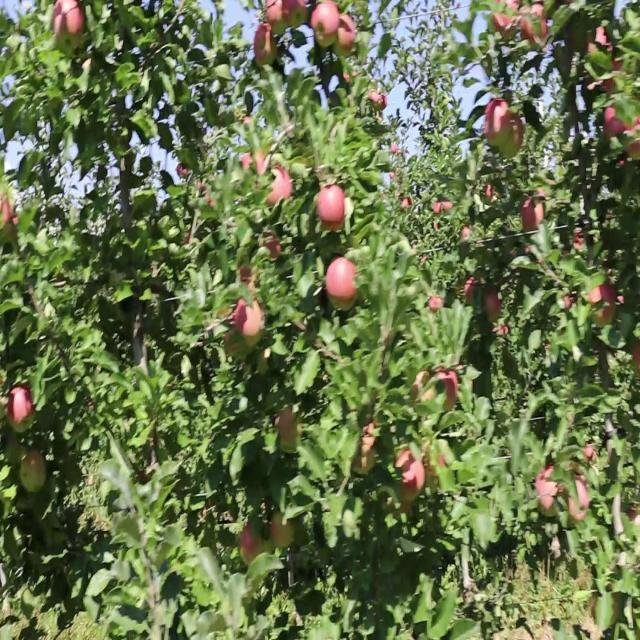apple: (584, 28, 612, 85), (328, 255, 357, 309), (8, 383, 37, 432), (320, 184, 348, 233), (20, 447, 48, 496), (396, 455, 426, 500), (236, 298, 265, 340), (312, 7, 339, 50), (568, 476, 592, 524), (520, 7, 548, 48), (588, 284, 616, 325), (536, 469, 561, 514), (268, 163, 293, 206), (484, 99, 510, 140), (604, 49, 624, 98), (276, 412, 302, 446), (256, 28, 279, 66), (272, 511, 295, 549), (412, 369, 436, 405), (492, 7, 520, 37), (440, 369, 460, 411), (336, 14, 357, 52), (240, 526, 261, 564), (60, 7, 86, 37), (244, 149, 268, 181), (524, 199, 544, 235), (360, 419, 380, 455), (224, 312, 240, 356), (284, 0, 308, 28), (604, 106, 623, 140), (624, 120, 640, 158), (484, 291, 503, 322), (52, 7, 70, 39), (68, 7, 87, 37), (444, 369, 460, 404), (264, 234, 283, 261), (240, 270, 258, 297), (428, 455, 447, 480), (512, 113, 525, 149), (4, 199, 19, 228), (464, 277, 478, 306), (244, 156, 260, 178), (432, 455, 447, 476), (632, 341, 640, 373), (584, 447, 599, 464), (268, 7, 282, 25), (564, 298, 578, 313), (492, 327, 511, 338)
